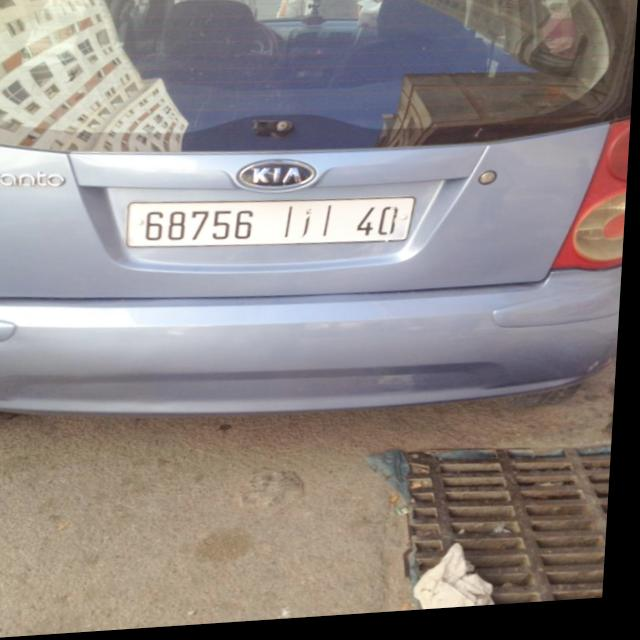License-Plate: (128, 203, 417, 250)
